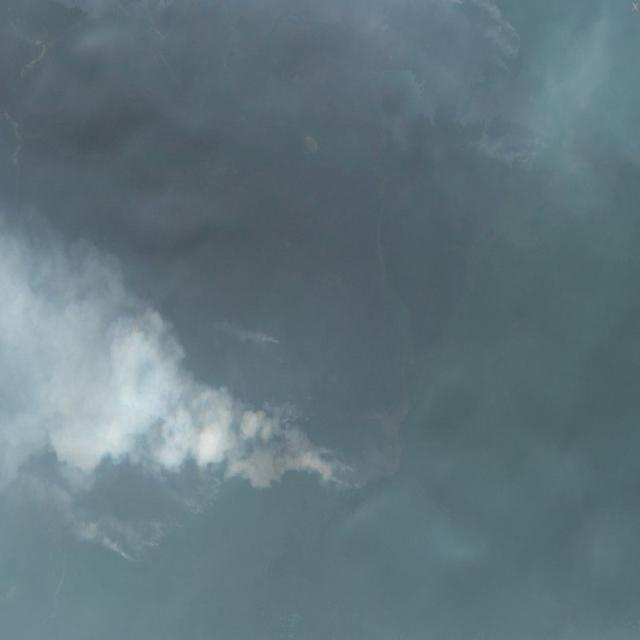fire: (102, 320, 384, 568), (447, 0, 559, 173)
